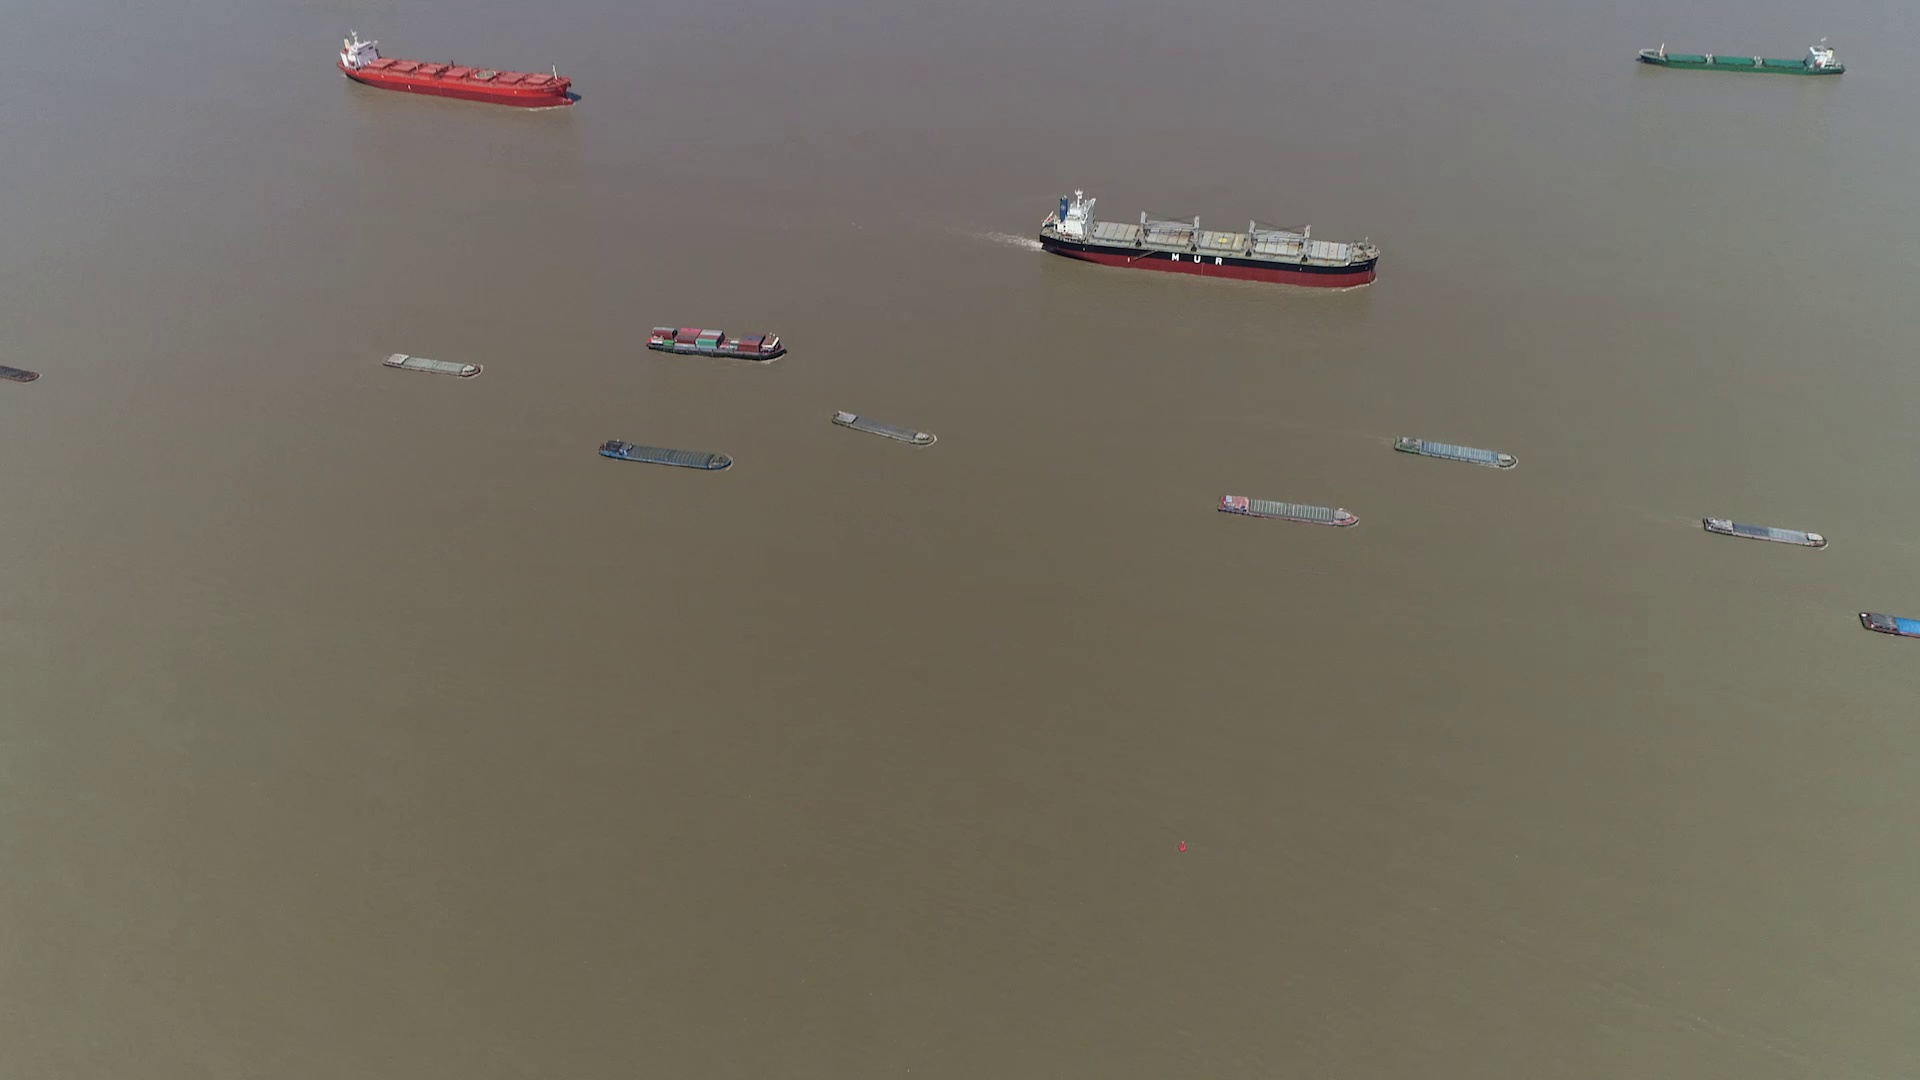ship: (1039, 193, 1379, 287), (339, 29, 572, 105), (1638, 40, 1846, 74), (646, 326, 786, 363), (1218, 492, 1358, 526), (1394, 435, 1516, 469), (600, 439, 732, 469), (829, 410, 935, 444), (1702, 517, 1826, 546), (382, 352, 483, 376), (1859, 611, 1920, 644), (0, 357, 38, 384)
